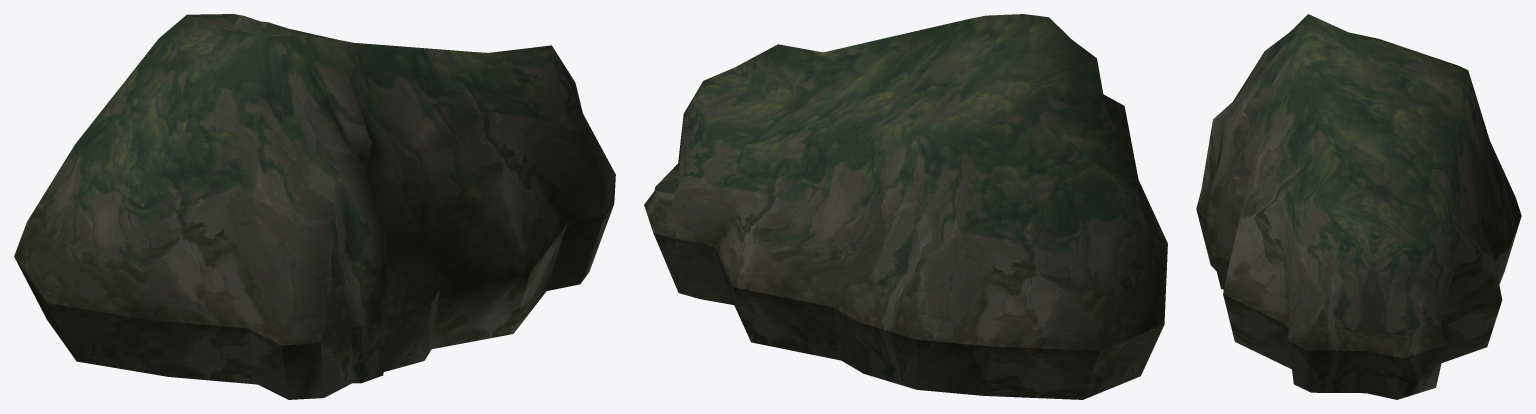
The model's file is Rock_07.obj.
3 renders of one model, left to right at view 1: azimuth 30°, elevation 25°; view 2: azimuth 150°, elevation 25°; view 3: azimuth 270°, elevation 25°, orthographic. The views are drawn at different scales.
Visible parts, largest first — view 1: world_expansion06_doodads_araknashal_7an_rockswamp_c01.m2_Geoset; view 2: world_expansion06_doodads_araknashal_7an_rockswamp_c01.m2_Geoset; view 3: world_expansion06_doodads_araknashal_7an_rockswamp_c01.m2_Geoset.
Boxes of the visible parts, x1,y1,x2,y2 form: world_expansion06_doodads_araknashal_7an_rockswamp_c01.m2_Geoset: [14, 14, 615, 399]; world_expansion06_doodads_araknashal_7an_rockswamp_c01.m2_Geoset: [644, 14, 1167, 399]; world_expansion06_doodads_araknashal_7an_rockswamp_c01.m2_Geoset: [1196, 14, 1521, 399].
Size of the model in its own units: 11.02 by 6.19 by 7.17.
Materials: 1 (1 with a texture image).
